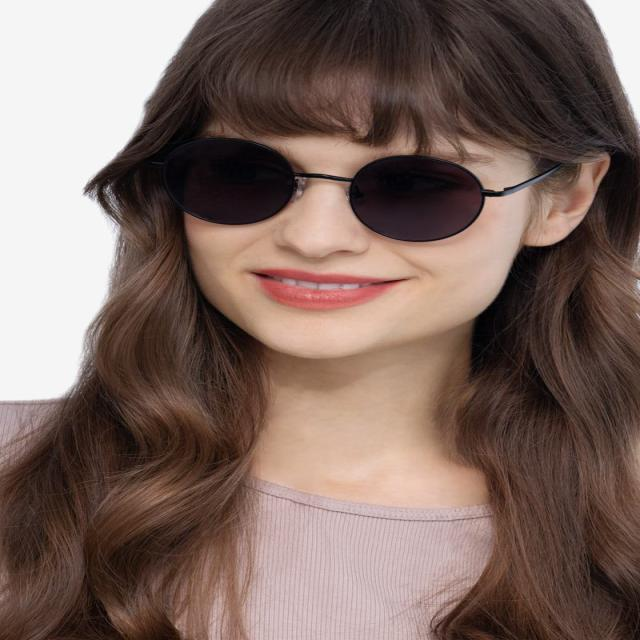2_gafas: (143, 136, 568, 242)
